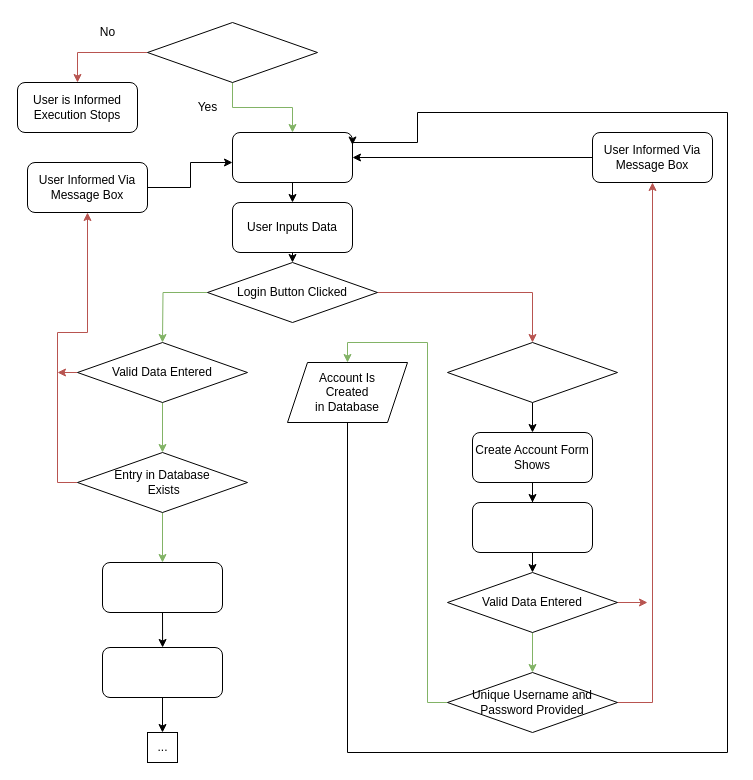
The diagram is 753 pixels wide and 780 high, and some of its shapes have lost their labels. The shapes that lost their labels are listed below. From the top down, each one's box as (x1, y1, x2, y2) in pixels, then its label:
(146, 22, 318, 82): Connection to Database Established
(232, 132, 352, 182): Login Form Shows
(446, 342, 618, 402): Create New Account Clicked
(472, 502, 592, 552): User Fills Out Fields
(102, 562, 222, 612): User Informed about Successful Login
(102, 646, 222, 698): Dashboard Form is Shown
